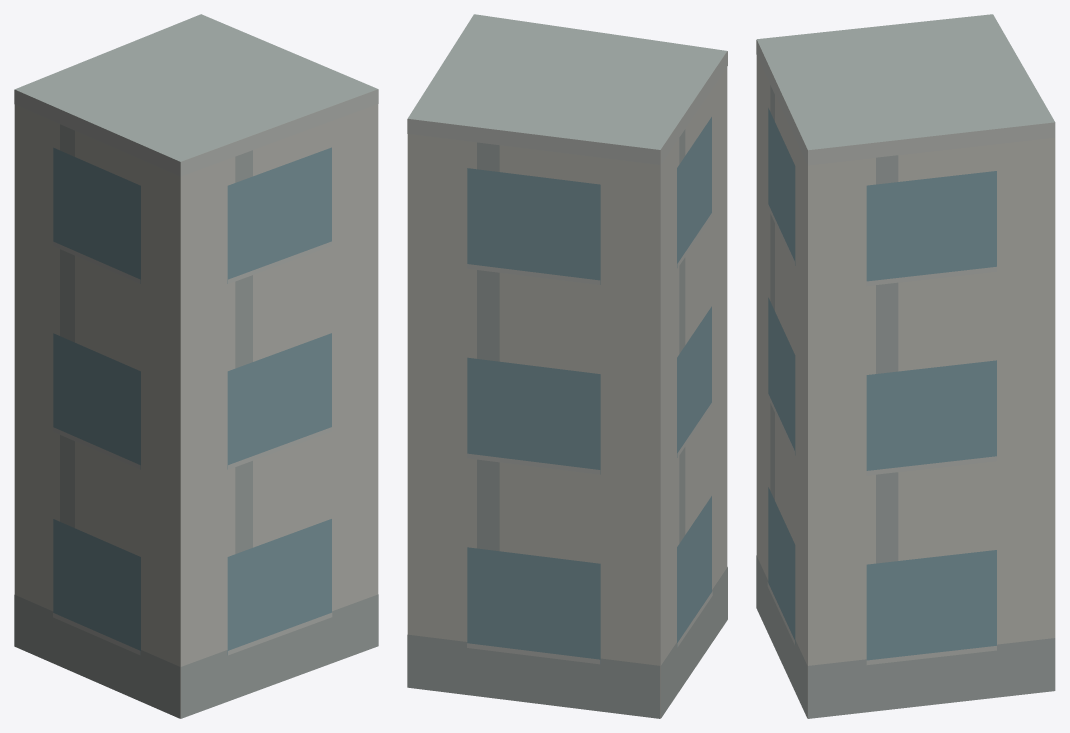
The model's file is survey-upis-32743810.glb.
The picture shows the model from 3 angles, left to right: view 1: azimuth 30°, elevation 25°; view 2: azimuth 150°, elevation 25°; view 3: azimuth 270°, elevation 25°; orthographic projection. The views are drawn at different scales.
Visible parts, largest first — view 1: survey-upis-32743810.tmp; view 2: survey-upis-32743810.tmp; view 3: survey-upis-32743810.tmp.
Boxes of the visible parts, x1,y1,x2,y2 form: survey-upis-32743810.tmp: [14, 14, 378, 718]; survey-upis-32743810.tmp: [407, 14, 727, 718]; survey-upis-32743810.tmp: [756, 14, 1055, 718].
Size of the model in its own units: 4.71 by 9.15 by 4.37.
